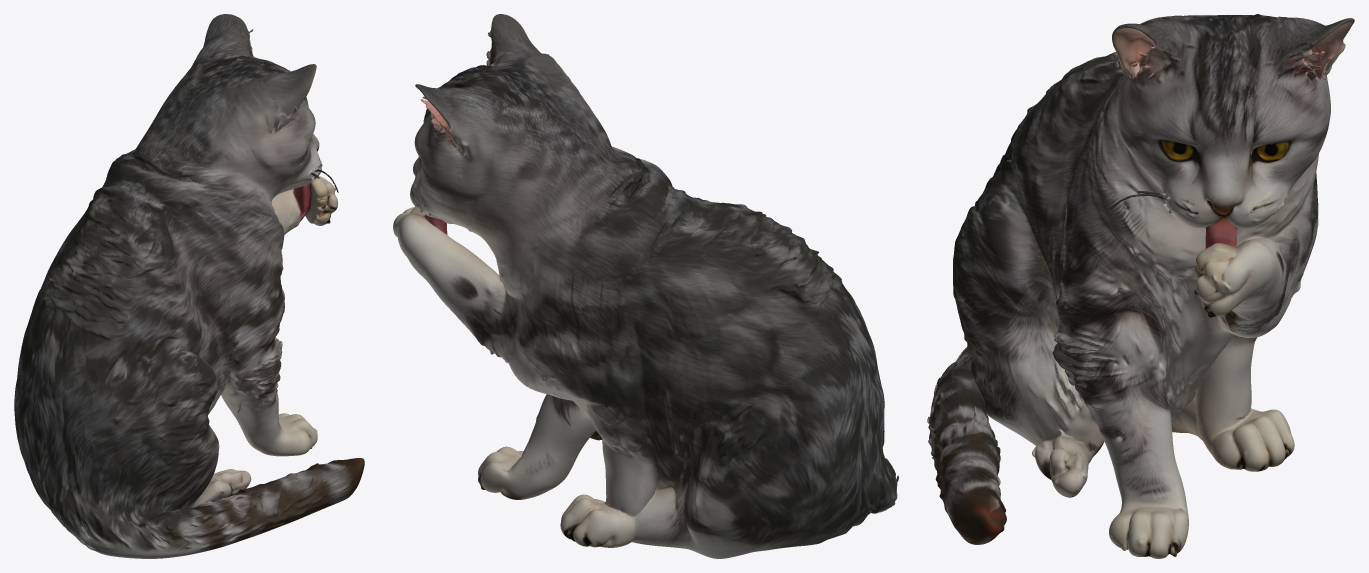
File: cat_groom.glb
3 views of the same model, side by side, from view 1: azimuth 30°, elevation 25°; view 2: azimuth 150°, elevation 25°; view 3: azimuth 270°, elevation 25° (orthographic). The views are drawn at different scales.
Visible parts, largest first — view 1: tripo_node_b358857e-a4be-47b0-89af-6b577ffef66f; view 2: tripo_node_b358857e-a4be-47b0-89af-6b577ffef66f; view 3: tripo_node_b358857e-a4be-47b0-89af-6b577ffef66f.
Part boxes in pixels (<box>): tripo_node_b358857e-a4be-47b0-89af-6b577ffef66f: <box>14,14,364,558</box>; tripo_node_b358857e-a4be-47b0-89af-6b577ffef66f: <box>393,14,898,558</box>; tripo_node_b358857e-a4be-47b0-89af-6b577ffef66f: <box>927,14,1354,558</box>.
Size of the model in its own units: 0.9264 by 1 by 0.7044.
Materials: 1 (1 with a texture image).
